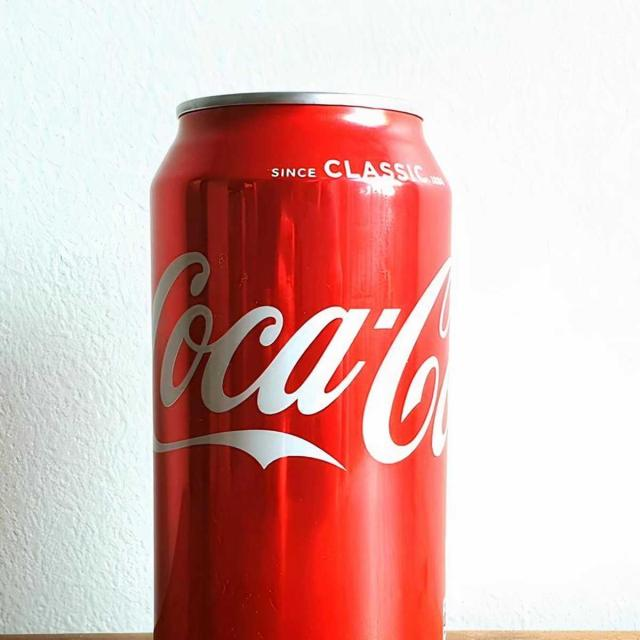Cans: (107, 57, 491, 640)
